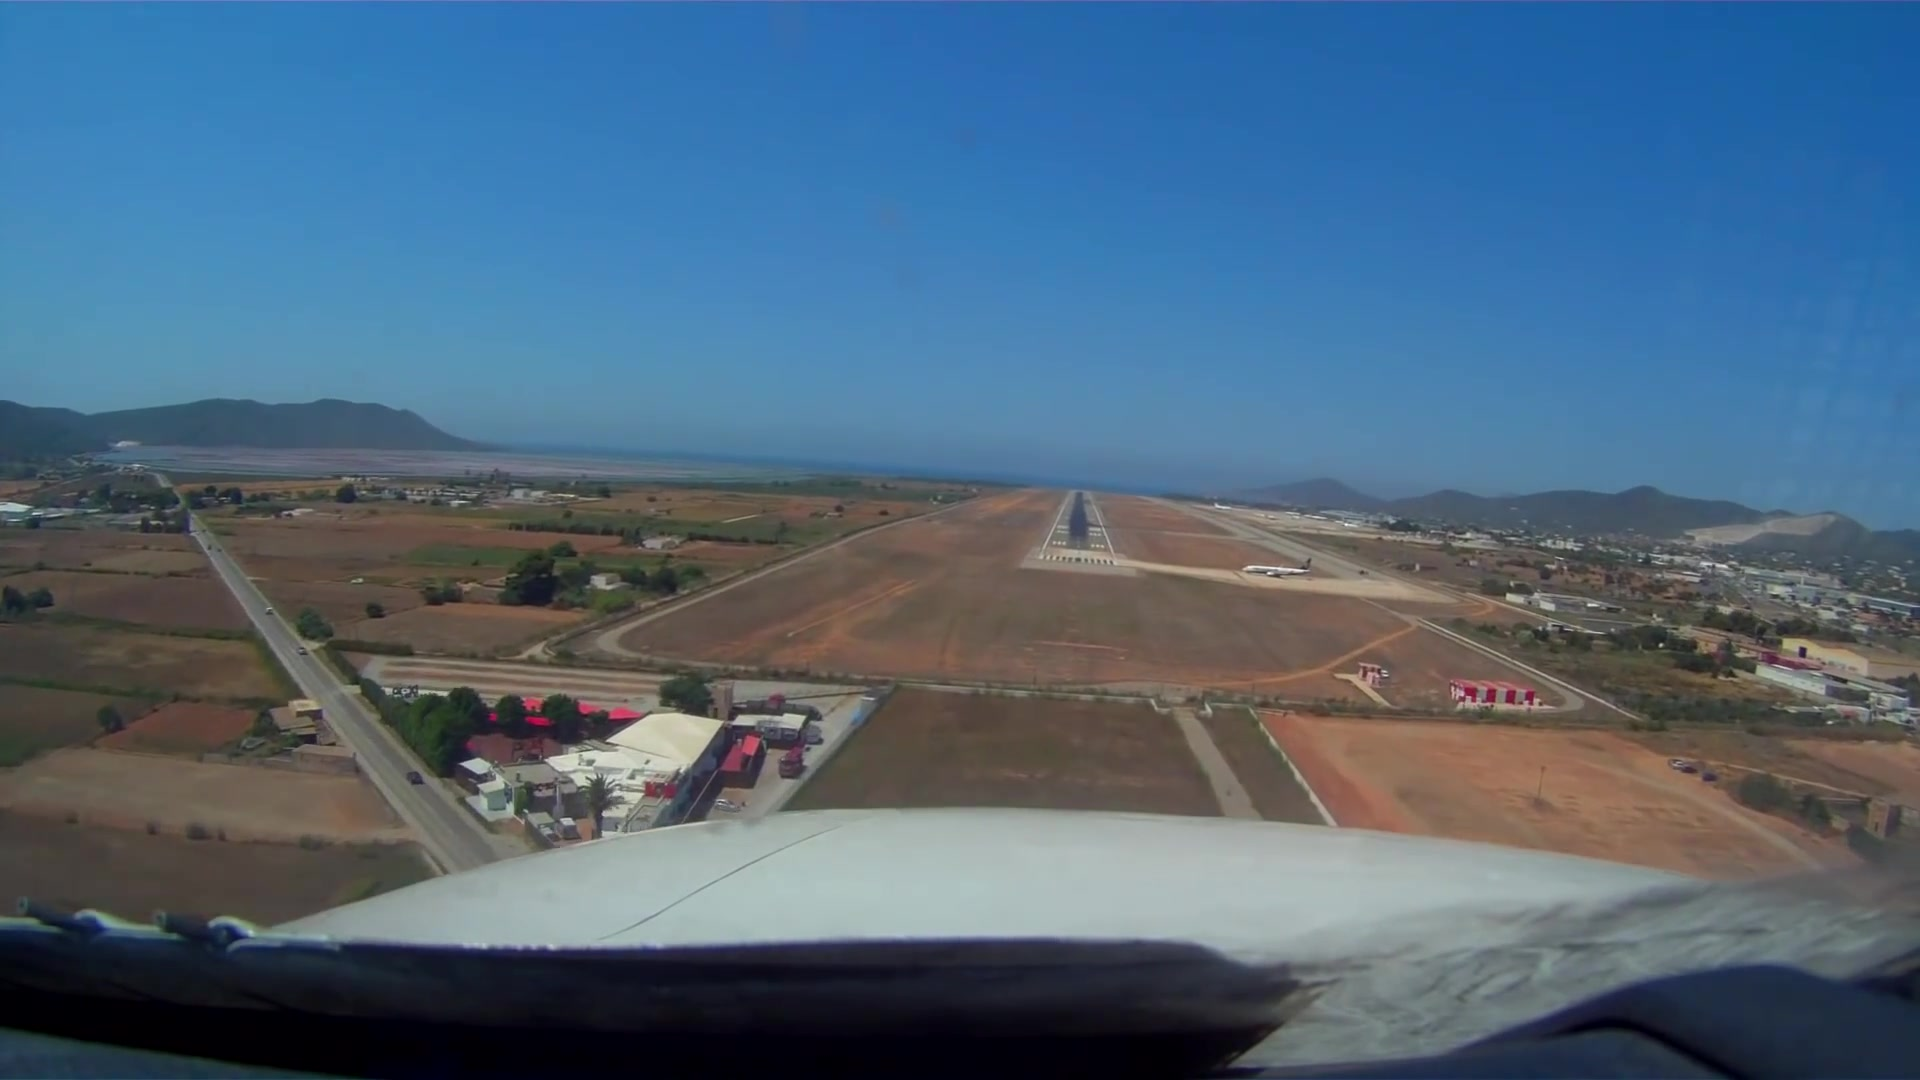entrance: (1040, 553, 1114, 567)
runway: (1036, 489, 1121, 571)
